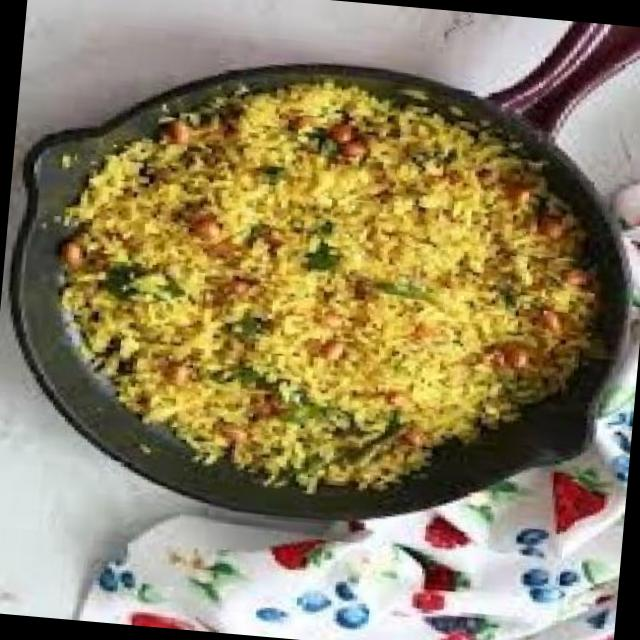poha: (35, 58, 614, 518)
